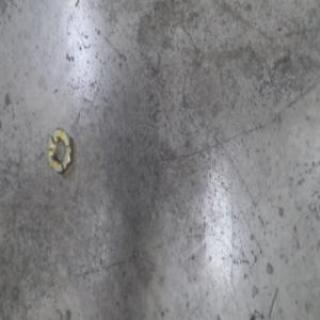Nuttrack_idkeyframe: (44, 123, 74, 174)
